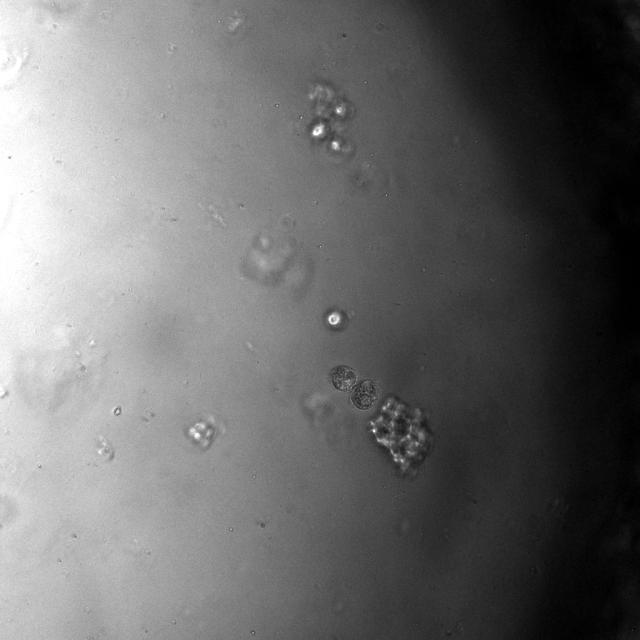organoid: (369, 395, 434, 474), (241, 233, 312, 294), (306, 83, 355, 159), (330, 365, 378, 410), (186, 417, 224, 450), (323, 308, 349, 331)
